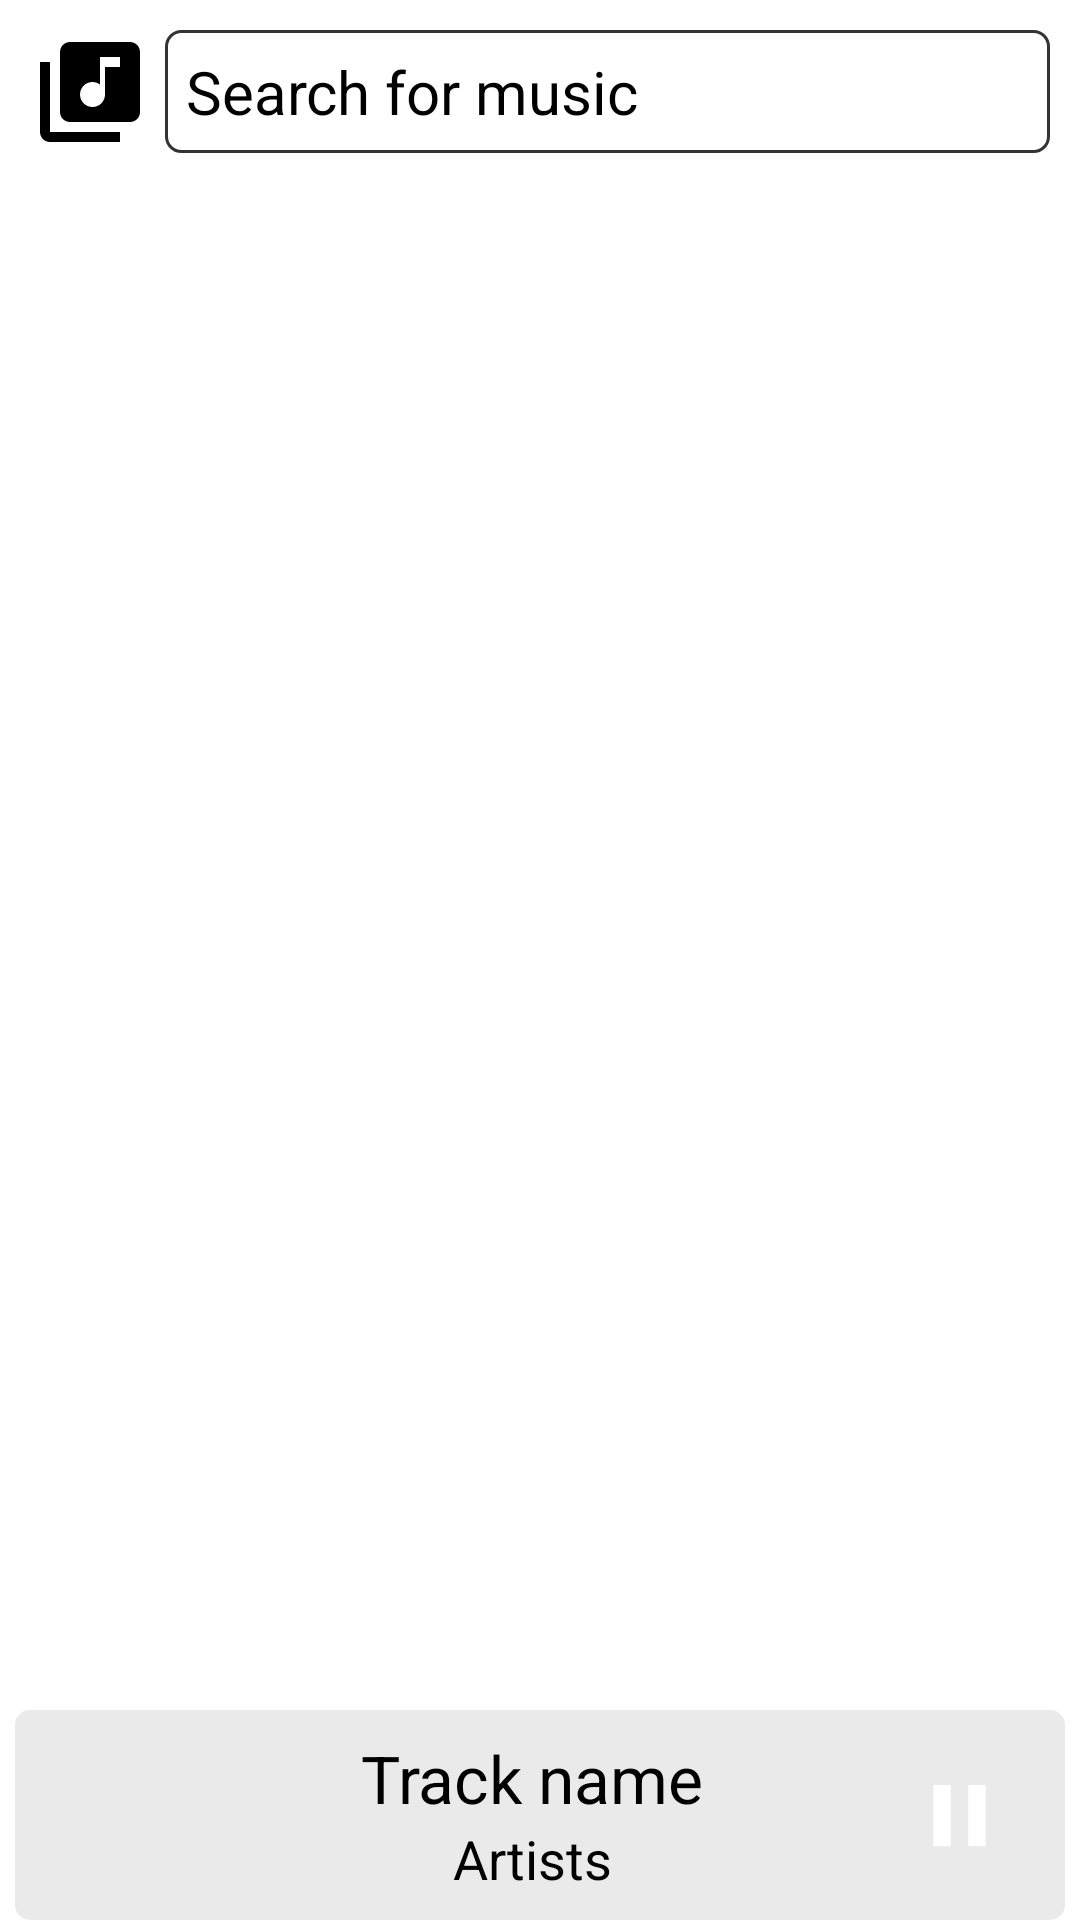

Icons on this 1080x1920 Android screen, each with the point to tap as (x,y):
library music: (90,92)
